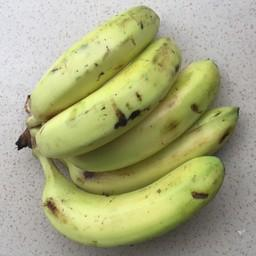Good_banana: (23, 3, 241, 256)
